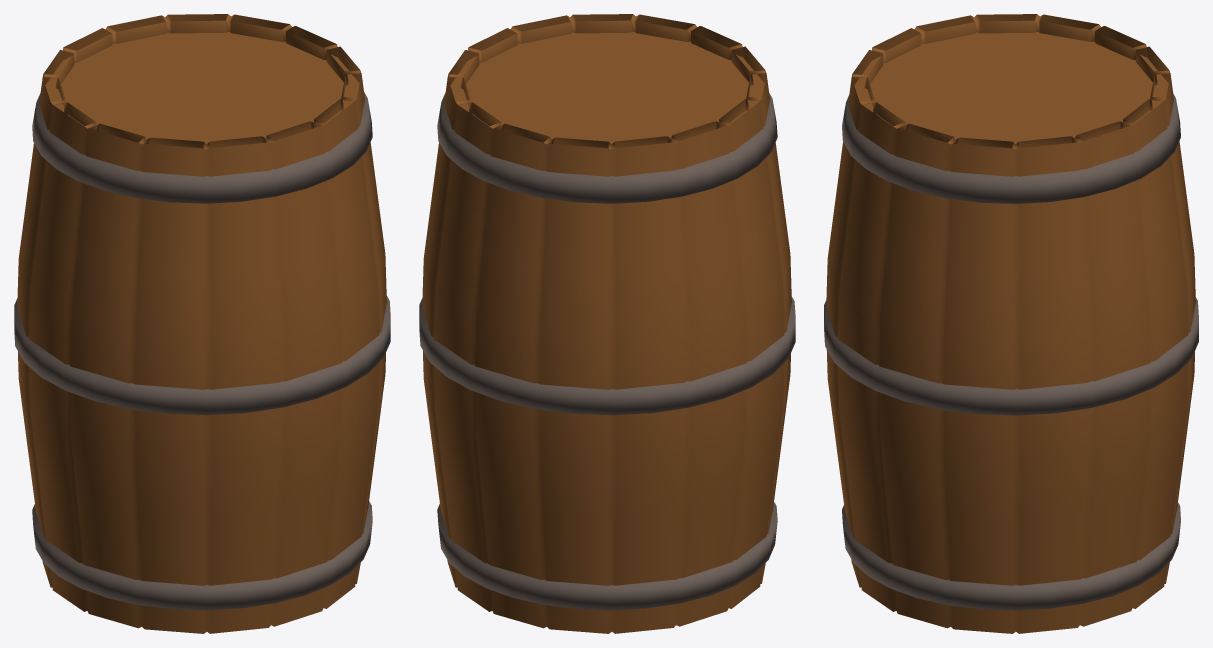
File: barrell.fbx
The picture shows the model from 3 angles, left to right: view 1: azimuth 30°, elevation 25°; view 2: azimuth 150°, elevation 25°; view 3: azimuth 270°, elevation 25°; orthographic projection.
Parts seen in each view (by area): view 1: Cylinder.011; view 2: Cylinder.011; view 3: Cylinder.011.
Boxes of the visible parts, bbox=[...] form: Cylinder.011: bbox=[14, 14, 390, 633]; Cylinder.011: bbox=[419, 14, 795, 633]; Cylinder.011: bbox=[824, 14, 1198, 633].
Size of the model in its own units: 5.59 by 7.92 by 5.55.
